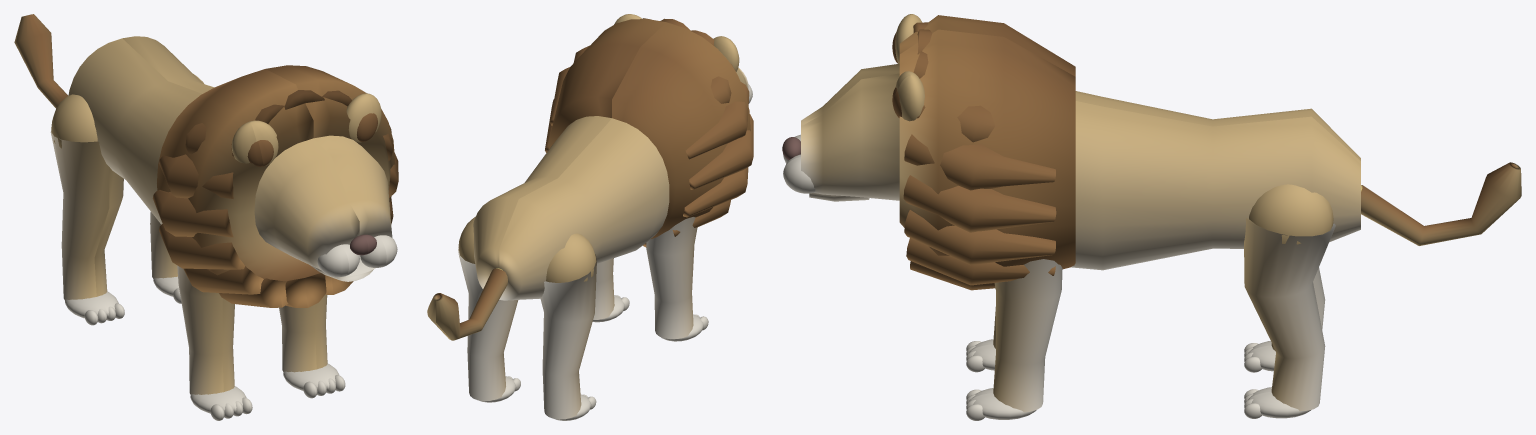
File: lion.glb
The picture shows the model from 3 angles, left to right: view 1: azimuth 30°, elevation 25°; view 2: azimuth 150°, elevation 25°; view 3: azimuth 270°, elevation 25°; orthographic projection. The views are drawn at different scales.
Parts seen in each view (by area): view 1: Head, Body, Leg_RL, Leg_FL, Leg_FR, Tail, Ear_L, Leg_RR, Ear_R; view 2: Head, Body, Leg_RL, Leg_FL, Leg_RR, Tail, Leg_FR, Ear_L; view 3: Head, Body, Leg_RR, Leg_FR, Tail, Ear_R, Leg_RL, Leg_FL.
Boxes of the visible parts, x1,y1,x2,y2 form: Head: [152, 65, 398, 307]; Body: [68, 36, 214, 224]; Leg_RL: [50, 94, 124, 325]; Leg_FL: [177, 265, 252, 420]; Leg_FR: [279, 294, 345, 398]; Tail: [14, 14, 67, 108]; Ear_L: [231, 120, 278, 166]; Leg_RR: [150, 74, 203, 303]; Ear_R: [346, 93, 381, 142]; Head: [545, 18, 753, 247]; Body: [473, 116, 669, 300]; Leg_RL: [540, 233, 596, 420]; Leg_FL: [646, 217, 708, 341]; Leg_RR: [458, 216, 520, 402]; Tail: [427, 268, 507, 340]; Leg_FR: [592, 258, 629, 322]; Ear_L: [713, 36, 739, 71]; Head: [782, 15, 1075, 290]; Body: [1071, 91, 1360, 270]; Leg_RR: [1244, 184, 1335, 418]; Leg_FR: [966, 259, 1062, 420]; Tail: [1361, 162, 1521, 245]; Ear_R: [892, 71, 924, 121]; Leg_RL: [1244, 268, 1325, 372]; Leg_FL: [966, 307, 995, 372].
Size of the model in its own units: 1.07 by 1.45 by 2.69.
